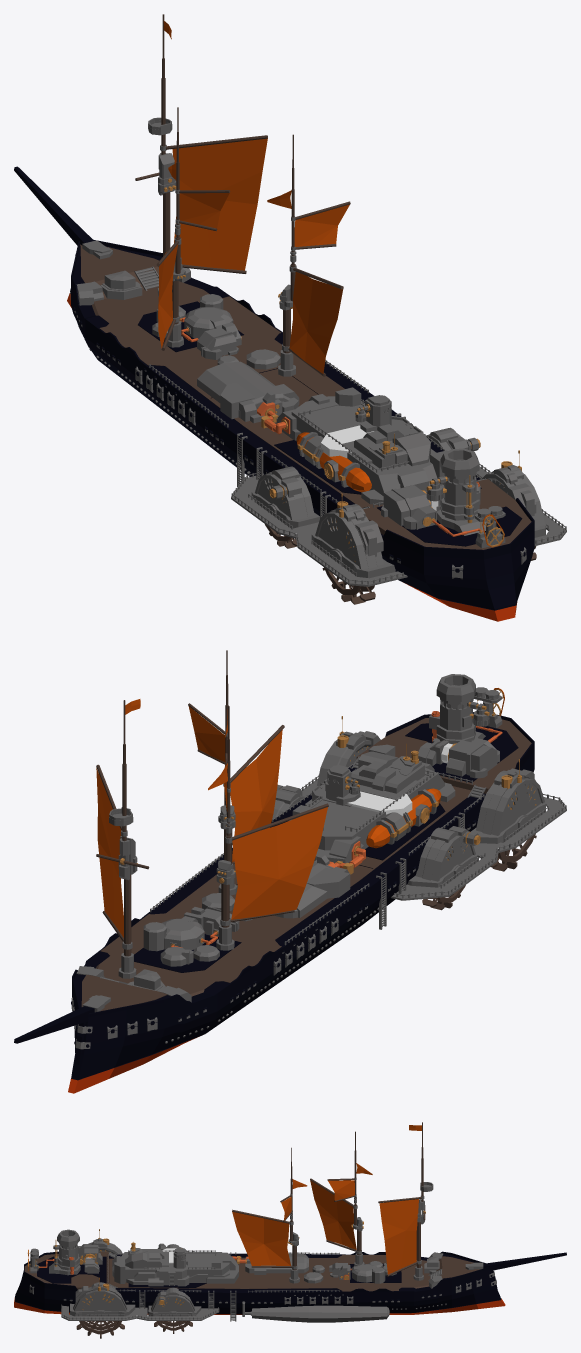
Rendered from ShipModel.fbx.
The picture shows the model from 3 angles, top to bottom: view 1: azimuth 30°, elevation 25°; view 2: azimuth 150°, elevation 25°; view 3: azimuth 270°, elevation 25°; orthographic projection. The views are drawn at different scales.
Parts seen in each view (by area): view 1: Hull, Deck, Plane, Cube.017, Cube.029, Plane.005, Platform, SmokeStack, Cube.090, Deck.001, Cylinder.043, Cylinder.118 (+13 smaller); view 2: Hull, Deck, Plane.001, Cube.017, Cube.029, Plane.005, Platform, Plane, Cube.090, SmokeStack, Deck.001, Cylinder.118 (+18 smaller); view 3: Hull, Deck, Cube.017, Plane, Plane.005, Boiler, Plane.001, Cube.029, Cube.090, Platform, SmokeStack, Cube.079 (+10 smaller).
Boxes of the visible parts, x1,y1,x2,y2 form: Hull: [67, 239, 534, 621]; Deck: [80, 244, 378, 507]; Plane: [172, 138, 267, 270]; Cube.017: [311, 450, 545, 604]; Cube.029: [251, 427, 480, 548]; Plane.005: [289, 272, 342, 373]; Platform: [231, 466, 566, 586]; SmokeStack: [437, 448, 485, 535]; Cube.090: [291, 396, 437, 495]; Deck.001: [363, 479, 531, 549]; Cylinder.043: [197, 361, 289, 417]; Cylinder.118: [296, 432, 371, 492]; Hull: [68, 712, 534, 1093]; Deck: [81, 786, 471, 1011]; Plane.001: [231, 807, 327, 919]; Cube.017: [317, 716, 545, 871]; Cube.029: [272, 785, 480, 910]; Plane.005: [230, 730, 282, 862]; Platform: [232, 778, 566, 900]; Plane: [96, 768, 123, 937]; Cube.090: [289, 767, 444, 850]; SmokeStack: [432, 674, 485, 744]; Deck.001: [356, 718, 531, 793]; Cylinder.118: [366, 788, 441, 848]; Hull: [14, 1251, 505, 1314]; Deck: [109, 1254, 479, 1291]; Cube.017: [70, 1229, 135, 1338]; Plane: [379, 1199, 418, 1274]; Plane.005: [232, 1211, 290, 1265]; Boiler: [252, 1305, 389, 1322]; Plane.001: [310, 1180, 356, 1249]; Cube.029: [148, 1243, 201, 1333]; Cube.090: [112, 1252, 229, 1282]; Platform: [61, 1305, 219, 1320]; SmokeStack: [49, 1229, 80, 1275]; Cube.079: [37, 1256, 106, 1283].
Size of the model in its own units: 1014 by 1564 by 3953.
